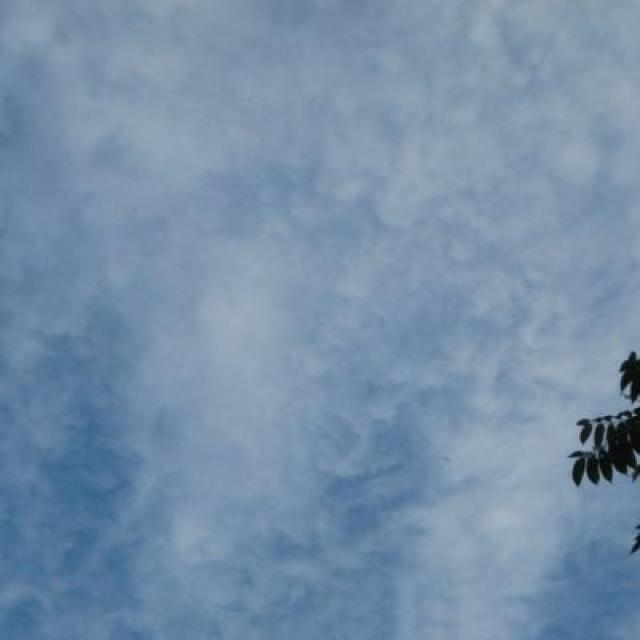Cc: (4, 31, 640, 306)
